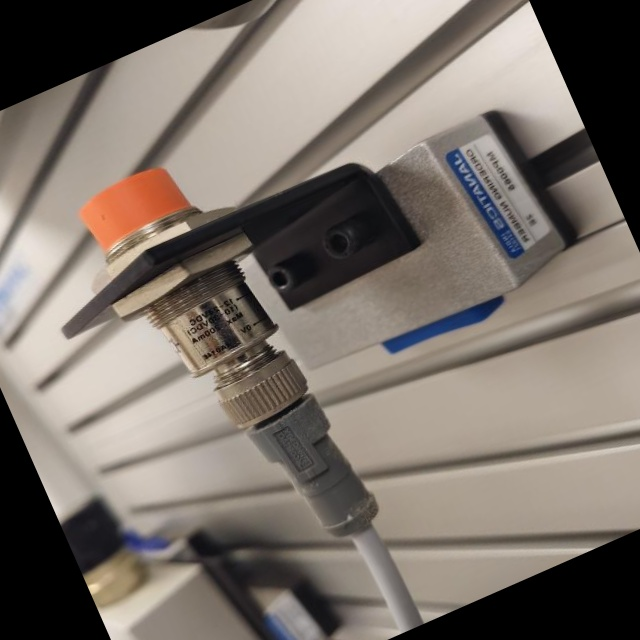inductive sensor: (6, 14, 640, 613)
